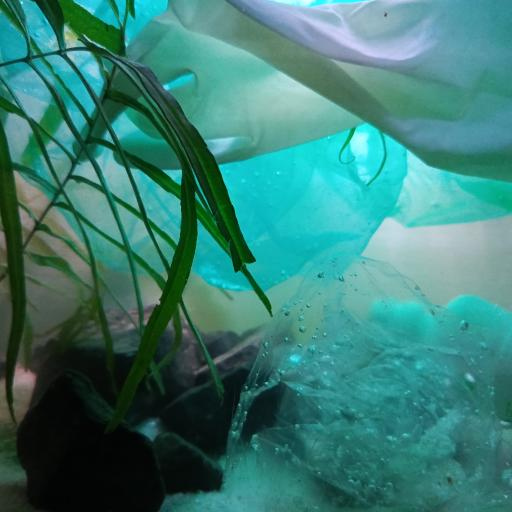glove: (70, 0, 511, 180)
plastic_bag: (2, 0, 512, 292), (221, 252, 512, 512)
plastic_bottle: (364, 290, 512, 386)
